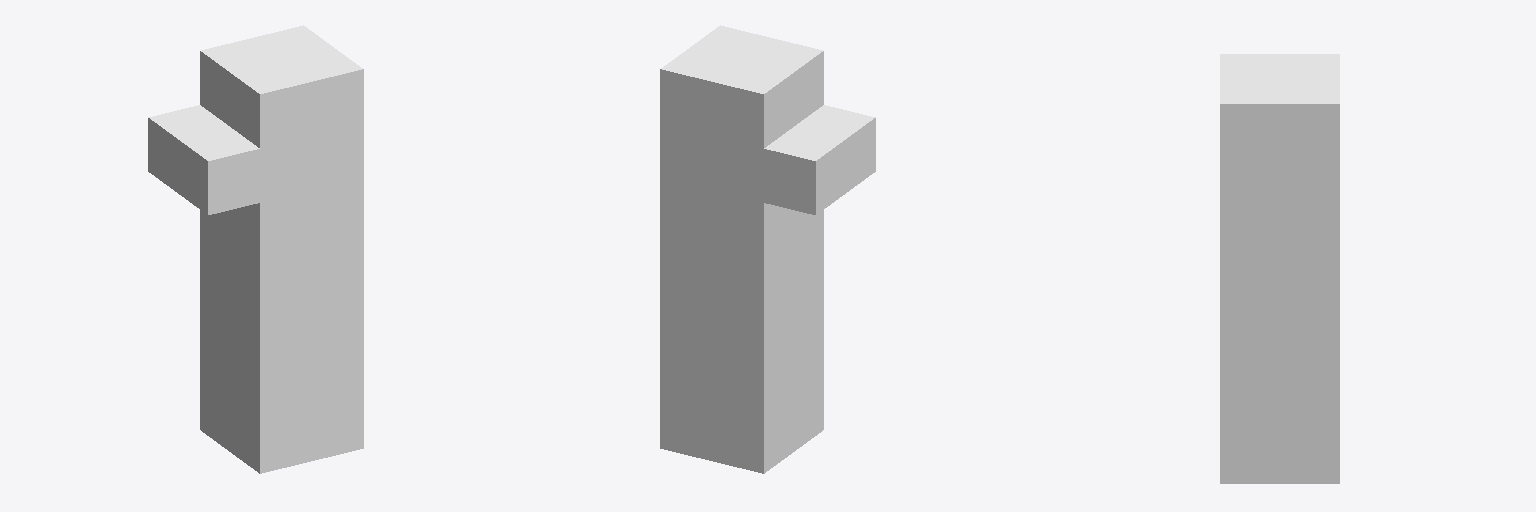
Rendered from Person2.obj.
The picture shows the model from 3 angles: view 1: azimuth 30°, elevation 25°; view 2: azimuth 150°, elevation 25°; view 3: azimuth 270°, elevation 25°; orthographic projection.
Size of the model in its own units: 3 by 7 by 2.